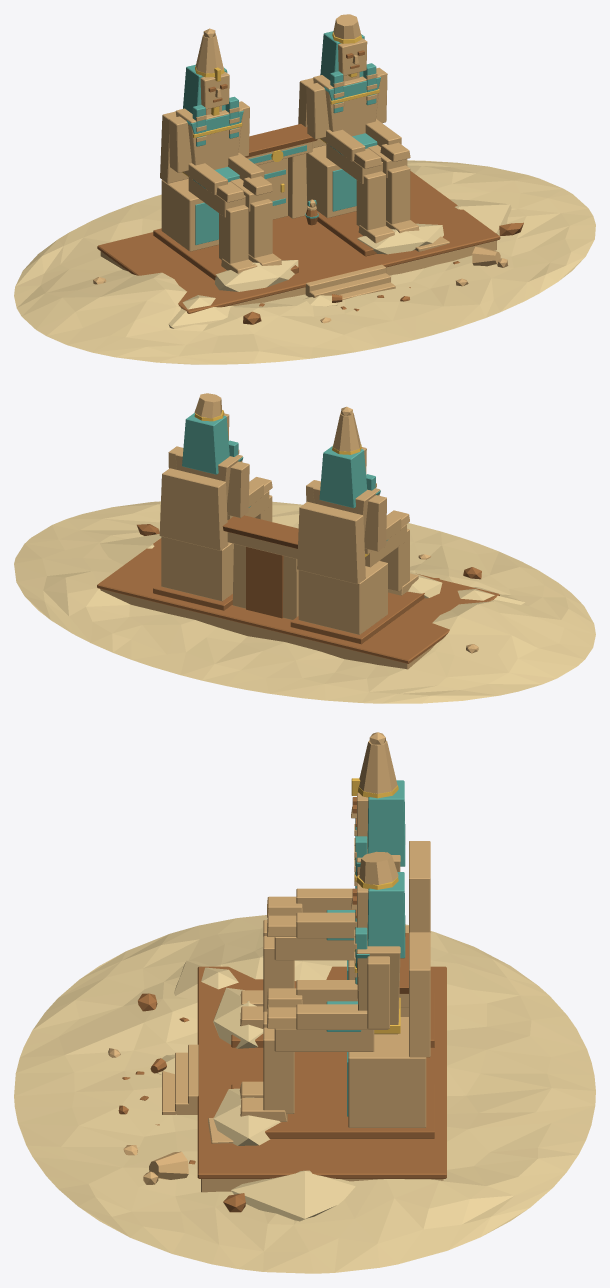
The model's file is pharaoh-colossi-gate.glb.
The picture shows the model from 3 angles, top to bottom: view 1: azimuth 30°, elevation 25°; view 2: azimuth 150°, elevation 25°; view 3: azimuth 270°, elevation 25°; orthographic projection. The views are drawn at different scales.
Visible parts, largest first — view 1: Sand, Statue_Left, Statue_Right, Platform, Gateway, Debris, TombDoor; view 2: Sand, Statue_Left, Statue_Right, Platform, Gateway, Debris; view 3: Sand, Statue_Right, Platform, Statue_Left, Debris.
Part boxes in pixels (x1=…): Sand: x1=14, y1=160, x2=595, y2=364; Statue_Left: x1=153, y1=28, x2=298, y2=280; Statue_Right: x1=298, y1=14, x2=421, y2=256; Platform: x1=97, y1=171, x2=500, y2=313; Gateway: x1=245, y1=124, x2=317, y2=218; Debris: x1=93, y1=209, x2=523, y2=324; TombDoor: x1=257, y1=158, x2=287, y2=219; Sand: x1=14, y1=501, x2=595, y2=703; Statue_Left: x1=290, y1=406, x2=424, y2=644; Statue_Right: x1=153, y1=393, x2=272, y2=610; Platform: x1=97, y1=538, x2=499, y2=669; Gateway: x1=222, y1=515, x2=298, y2=619; Debris: x1=137, y1=524, x2=481, y2=653; Sand: x1=14, y1=915, x2=595, y2=1273; Statue_Right: x1=231, y1=851, x2=434, y2=1138; Platform: x1=162, y1=966, x2=446, y2=1192; Statue_Left: x1=231, y1=732, x2=434, y2=1047; Debris: x1=108, y1=993, x2=245, y2=1212.
Bounding box in the file's own units: 98.53 × 40.2 × 67.19.
